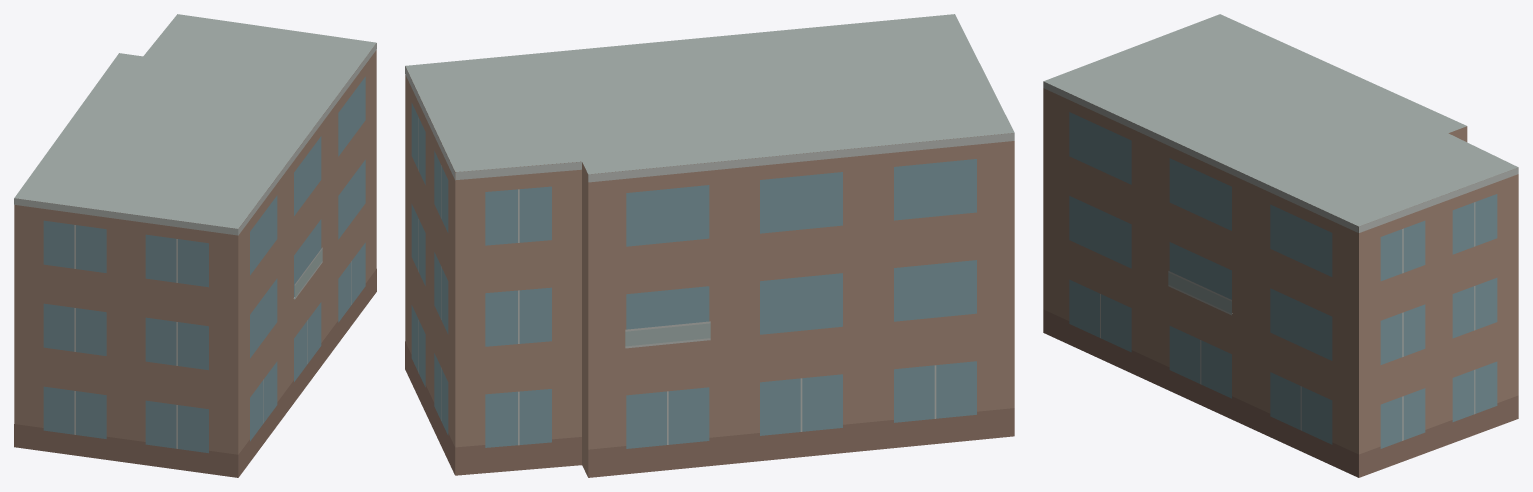
The model's file is survey-upis-33010718.glb.
3 renders of one model, left to right at view 1: azimuth 30°, elevation 25°; view 2: azimuth 150°, elevation 25°; view 3: azimuth 270°, elevation 25°, orthographic. The views are drawn at different scales.
Visible parts, largest first — view 1: survey-upis-33010718.tmp; view 2: survey-upis-33010718.tmp; view 3: survey-upis-33010718.tmp.
Part boxes in pixels (x1=…): survey-upis-33010718.tmp: x1=14, y1=14, x2=376, y2=477; survey-upis-33010718.tmp: x1=405, y1=14, x2=1014, y2=477; survey-upis-33010718.tmp: x1=1043, y1=14, x2=1518, y2=477.
Size of the model in its own units: 16.6 by 9.15 by 15.69.
